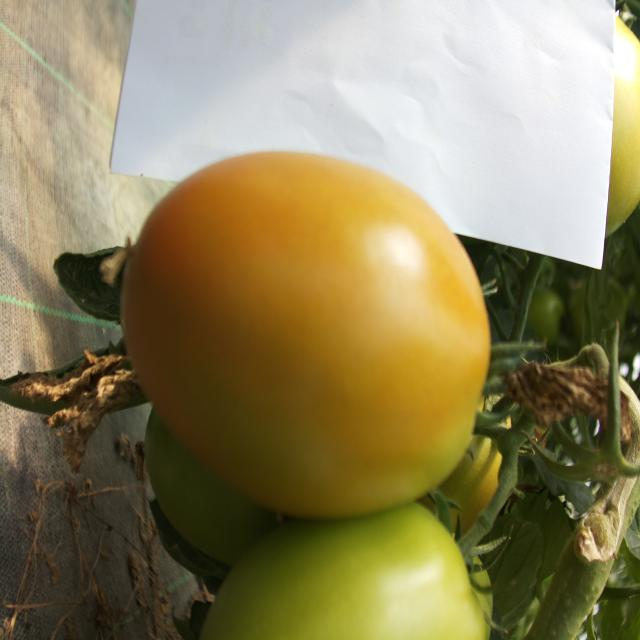sari: (112, 130, 500, 494)
